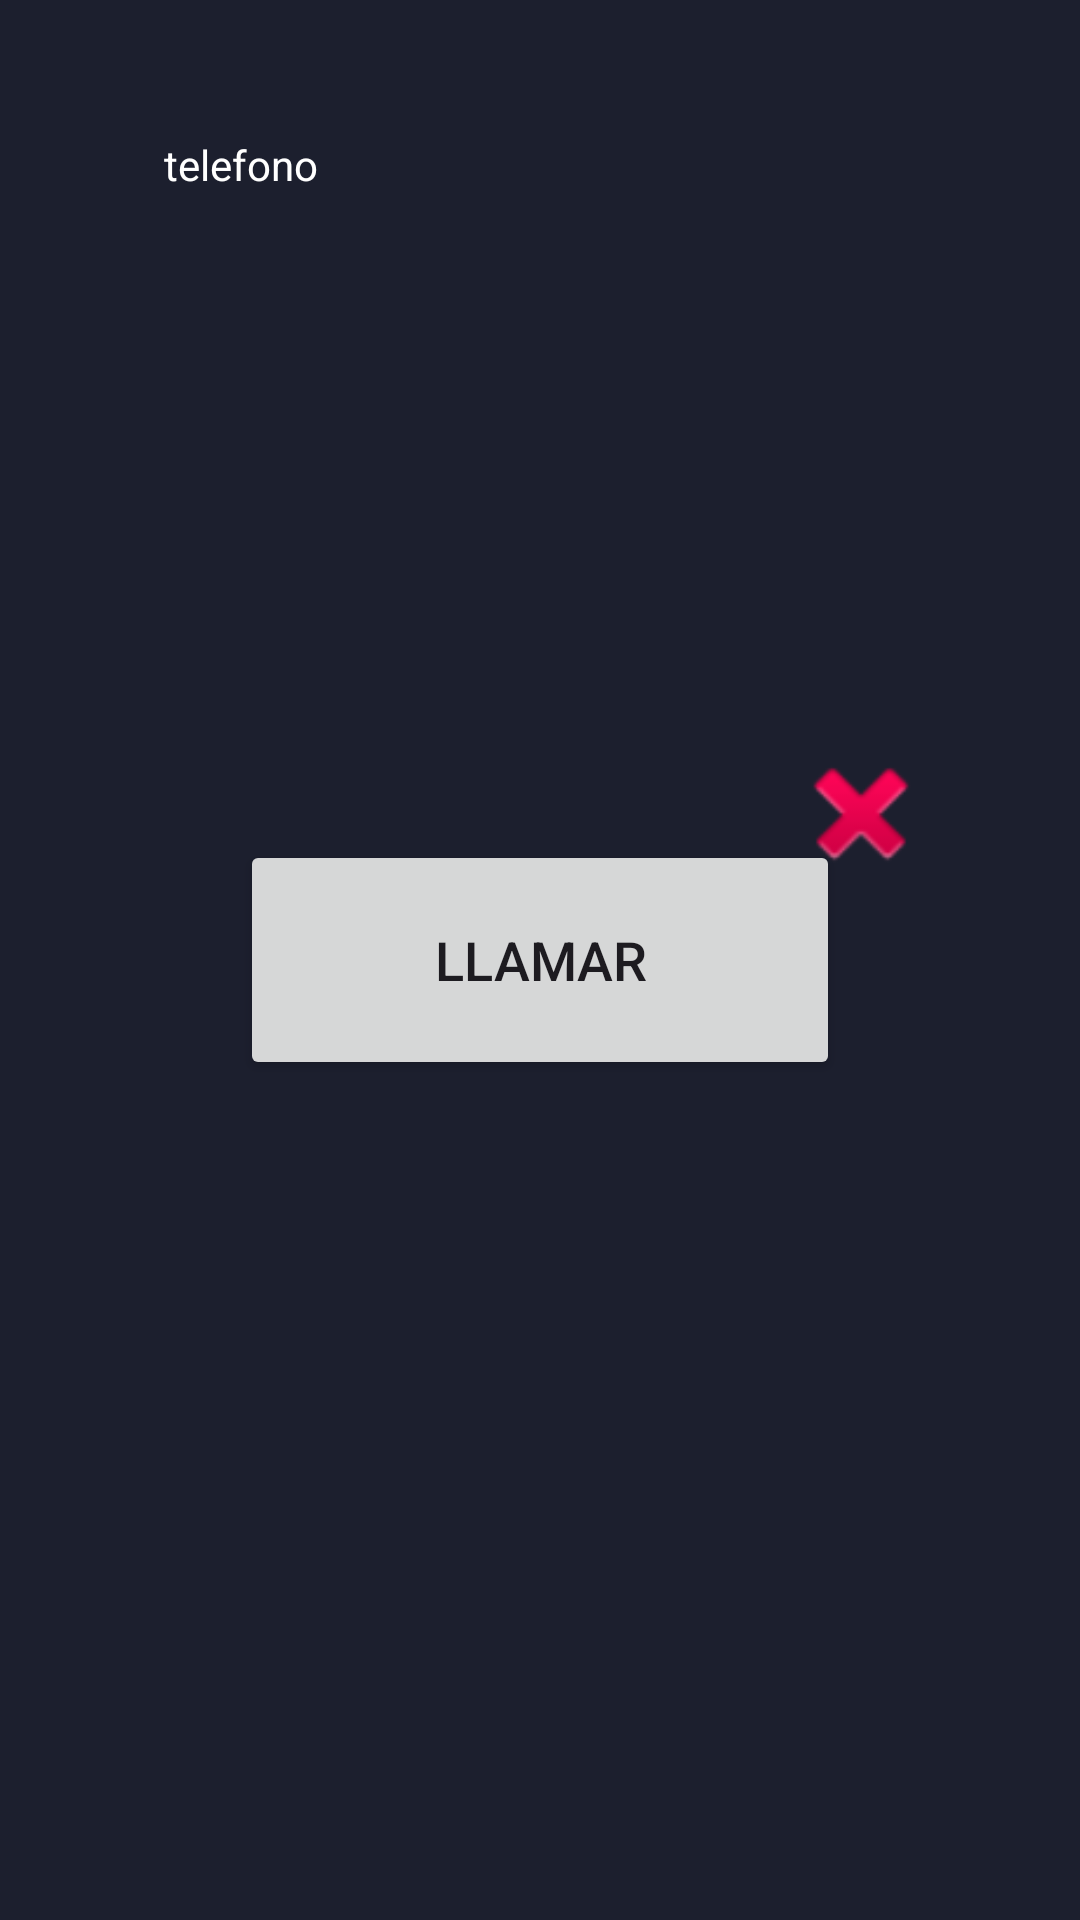

Screen size 1080×1920. Icon name, then its center in pixels as (x=x, y=y):
delete: (x=861, y=814)
